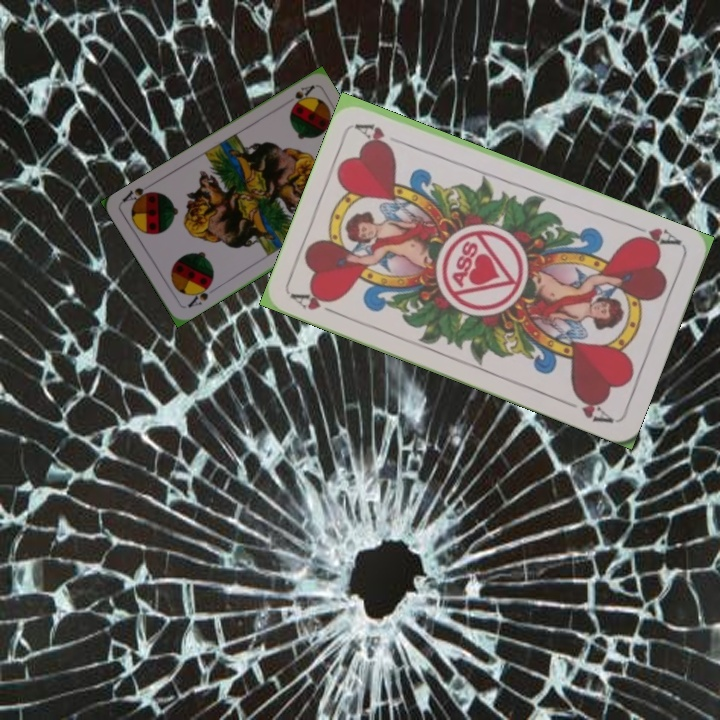HA: (288, 287, 345, 320), (627, 220, 684, 252)
SA: (183, 279, 215, 311), (287, 81, 316, 111)
